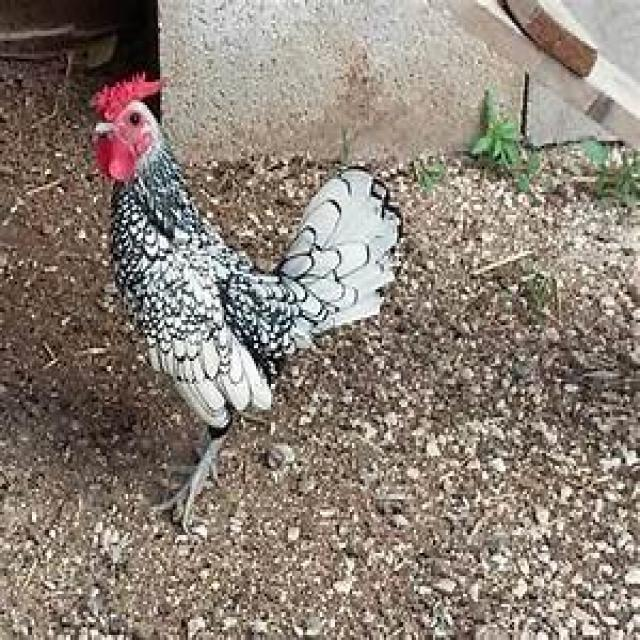chicken: (88, 69, 403, 533)
